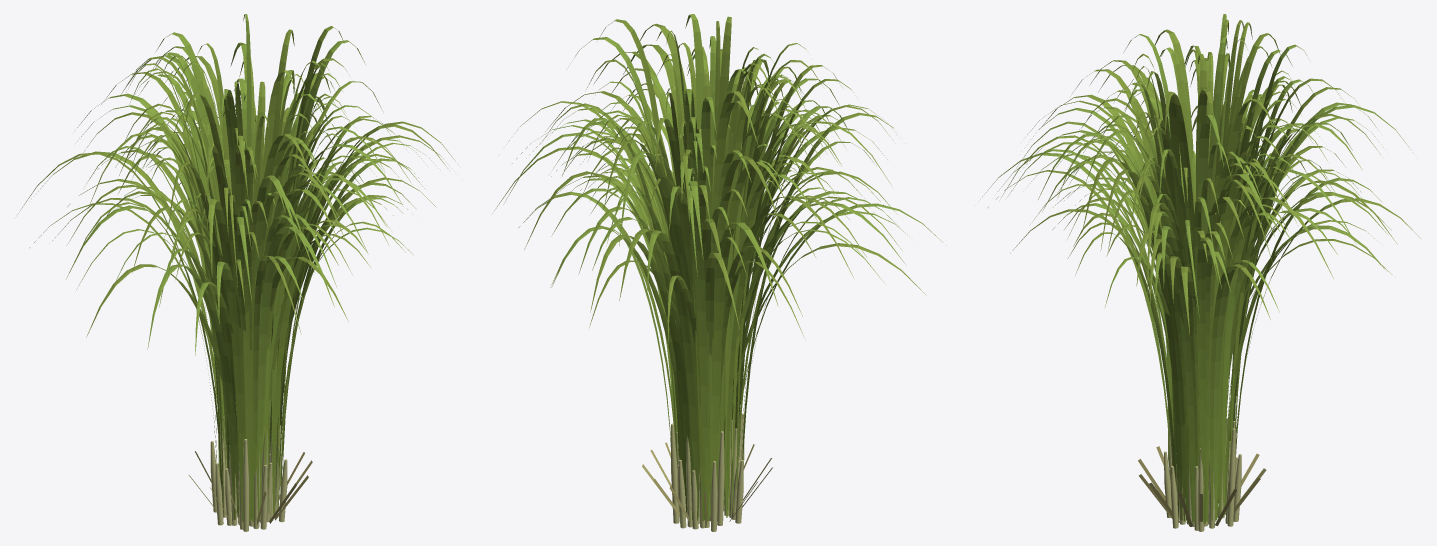
File: lemongrass-clump.glb
The picture shows the model from 3 angles, left to right: view 1: azimuth 30°, elevation 25°; view 2: azimuth 150°, elevation 25°; view 3: azimuth 270°, elevation 25°; orthographic projection. The views are drawn at different scales.
Parts seen in each view (by area): view 1: lemongrass_blades, lemongrass_pale_stalks, lemongrass_outer_sheaths; view 2: lemongrass_blades, lemongrass_pale_stalks, lemongrass_outer_sheaths; view 3: lemongrass_blades, lemongrass_pale_stalks, lemongrass_outer_sheaths.
Part boxes in pixels (left/top/right/bottom): lemongrass_blades: left=17, top=14, right=458, bottom=522; lemongrass_pale_stalks: left=210, top=416, right=287, bottom=531; lemongrass_outer_sheaths: left=189, top=451, right=312, bottom=525; lemongrass_blades: left=492, top=14, right=946, bottom=521; lemongrass_pale_stalks: left=671, top=412, right=744, bottom=531; lemongrass_outer_sheaths: left=642, top=442, right=772, bottom=526; lemongrass_blades: left=982, top=14, right=1420, bottom=523; lemongrass_pale_stalks: left=1164, top=418, right=1241, bottom=531; lemongrass_outer_sheaths: left=1138, top=446, right=1266, bottom=526.
Size of the model in its own units: 1 by 1.2 by 1.
